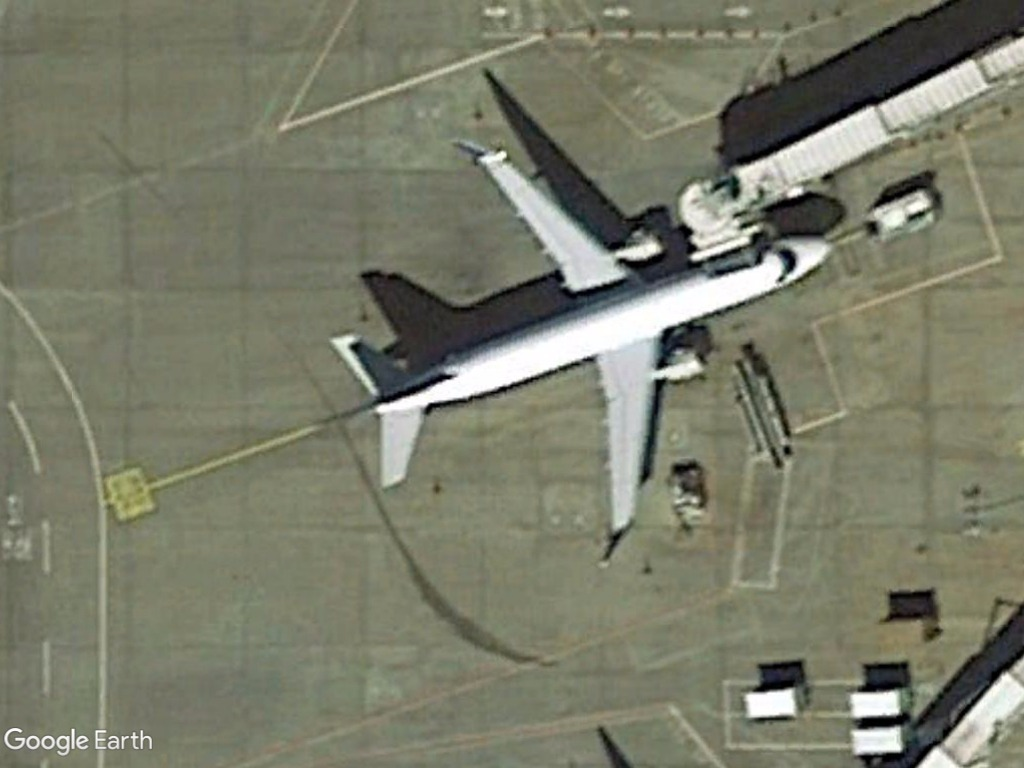airliner: (320, 137, 839, 564)
